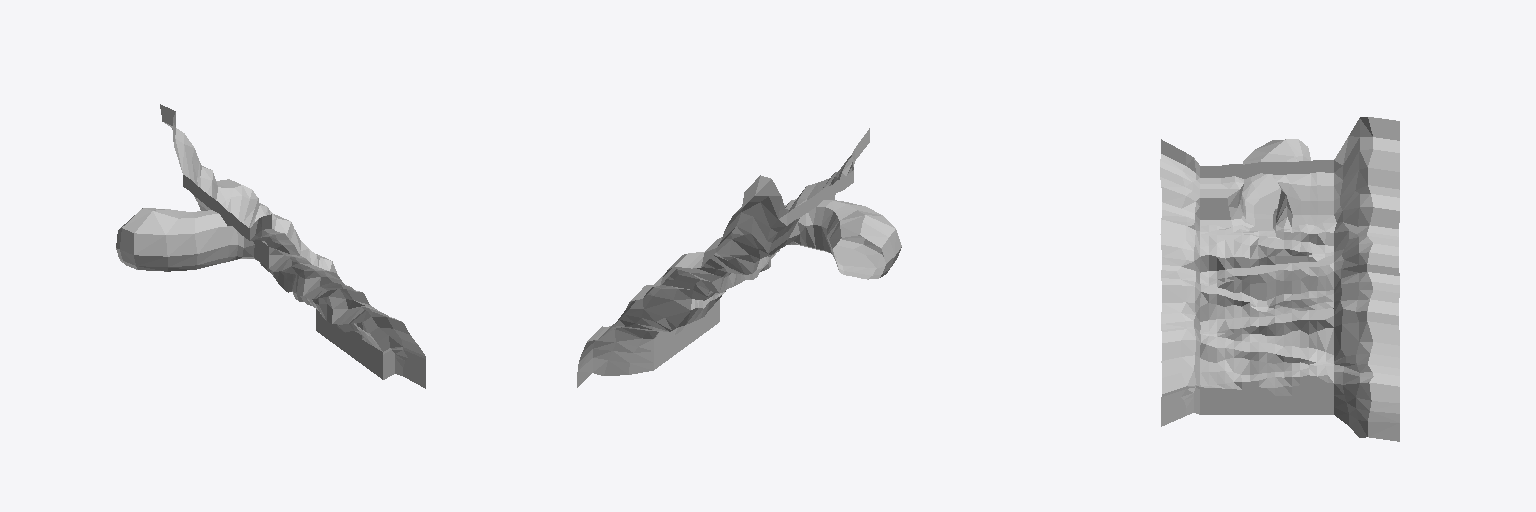
File: winding-road.obj
3 renders of one model, left to right at view 1: azimuth 30°, elevation 25°; view 2: azimuth 150°, elevation 25°; view 3: azimuth 270°, elevation 25°, orthographic.
Size of the model in its own units: 24.59 by 21.72 by 19.39.